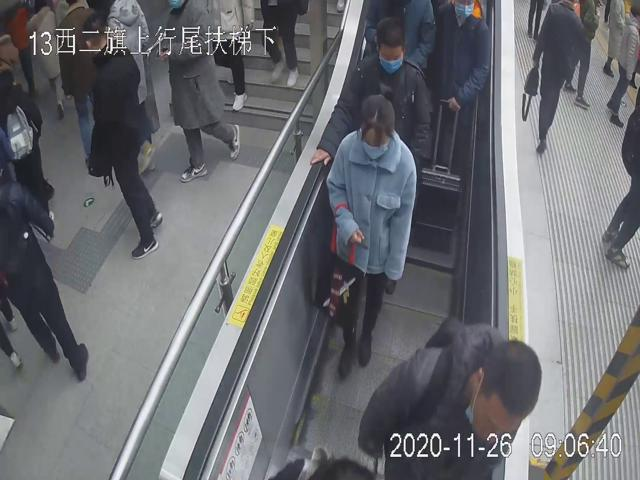person: (356, 316, 543, 480), (324, 92, 416, 380), (80, 13, 164, 259), (309, 15, 431, 183)
